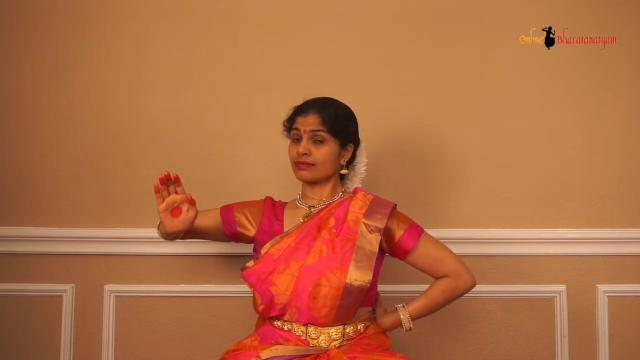sarpsheesh: (142, 162, 210, 250)
